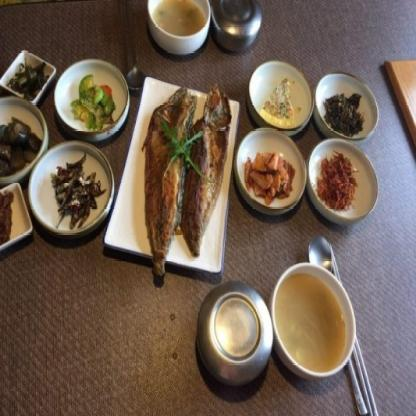Peixe: (135, 79, 233, 282)
